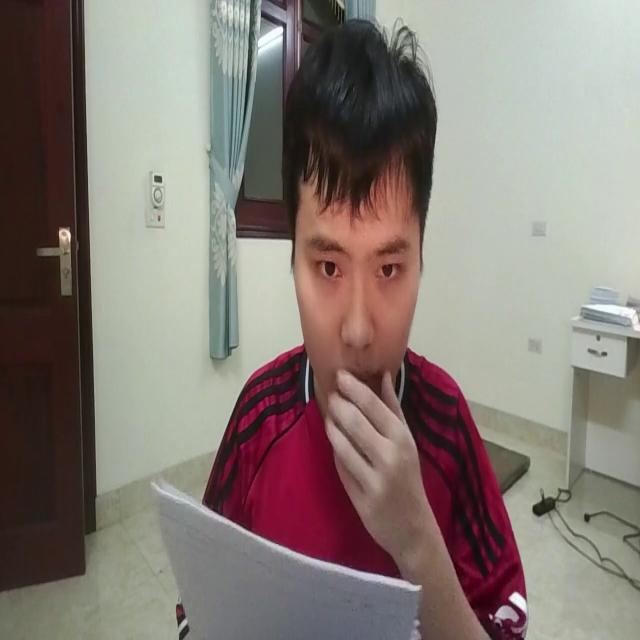book: (144, 458, 420, 640)
student: (149, 15, 532, 640)
